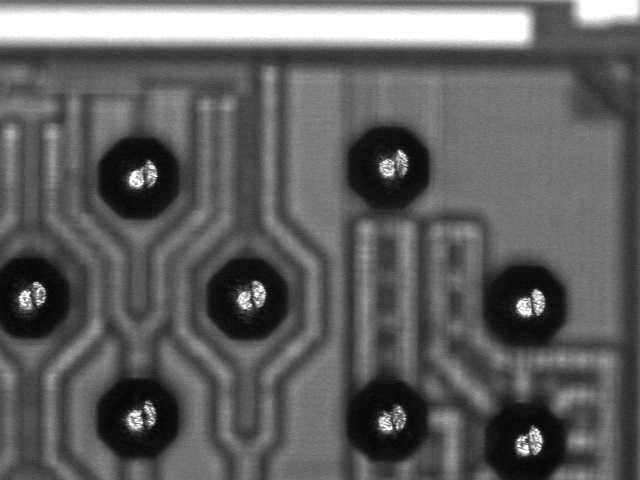shift: (88, 130, 190, 224), (197, 251, 299, 345), (89, 369, 191, 463), (338, 119, 440, 213), (474, 257, 576, 351), (337, 370, 439, 464), (477, 395, 578, 480), (1, 250, 77, 345)
